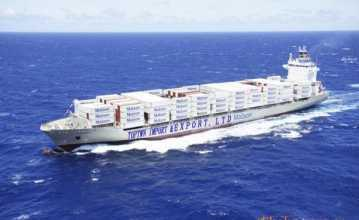Cargoship: (37, 43, 330, 145)
